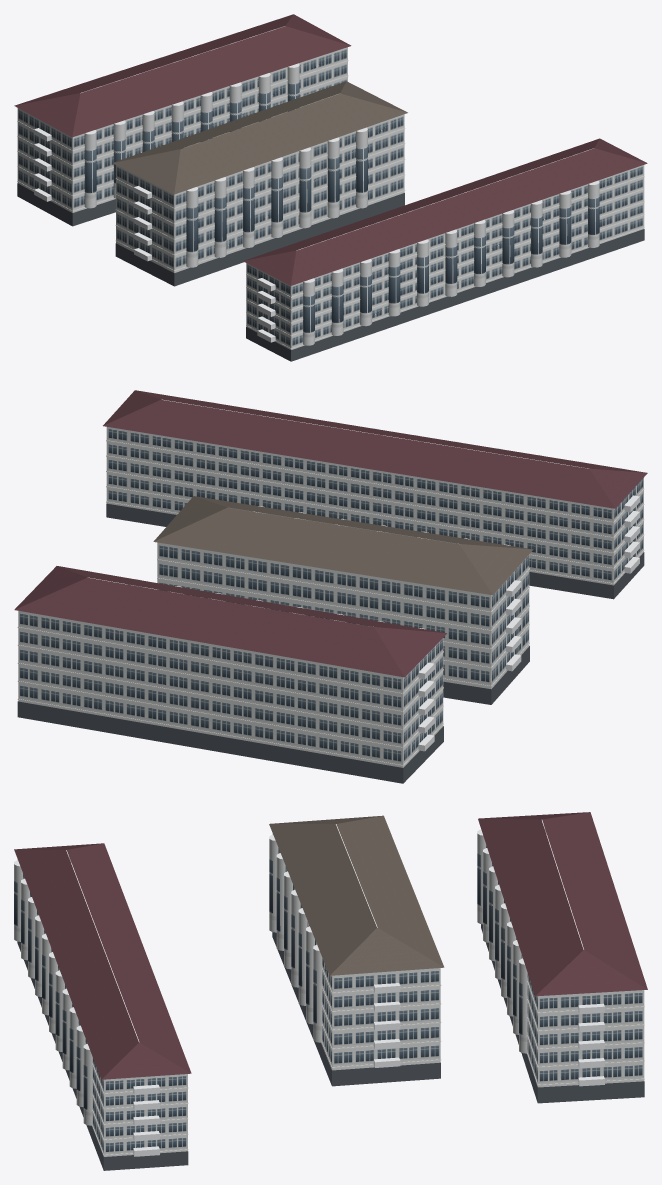
Rendered from dorm_dongyuan_i2.glb.
3 views of the same model, one above another, from view 1: azimuth 30°, elevation 25°; view 2: azimuth 150°, elevation 25°; view 3: azimuth 270°, elevation 25° (orthographic). The views are drawn at different scales.
Visible parts, largest first — view 1: 1114843834, 860503919, 860503920; view 2: 860503920, 1114843834, 860503919; view 3: 860503920, 1114843834, 860503919.
Part boxes in pixels (x1,y1,x2,y2): 1114843834: (243,138,647,361); 860503919: (112,81,407,286); 860503920: (14,14,351,226); 860503920: (14,566,446,783); 1114843834: (103,390,647,599); 860503919: (153,496,533,704); 860503920: (477,812,647,1103); 1114843834: (14,843,191,1170); 860503919: (269,815,444,1086).
Bounding box in the file's own units: 102 × 24.8 × 108.
Materials: 3 (2 with a texture image).
